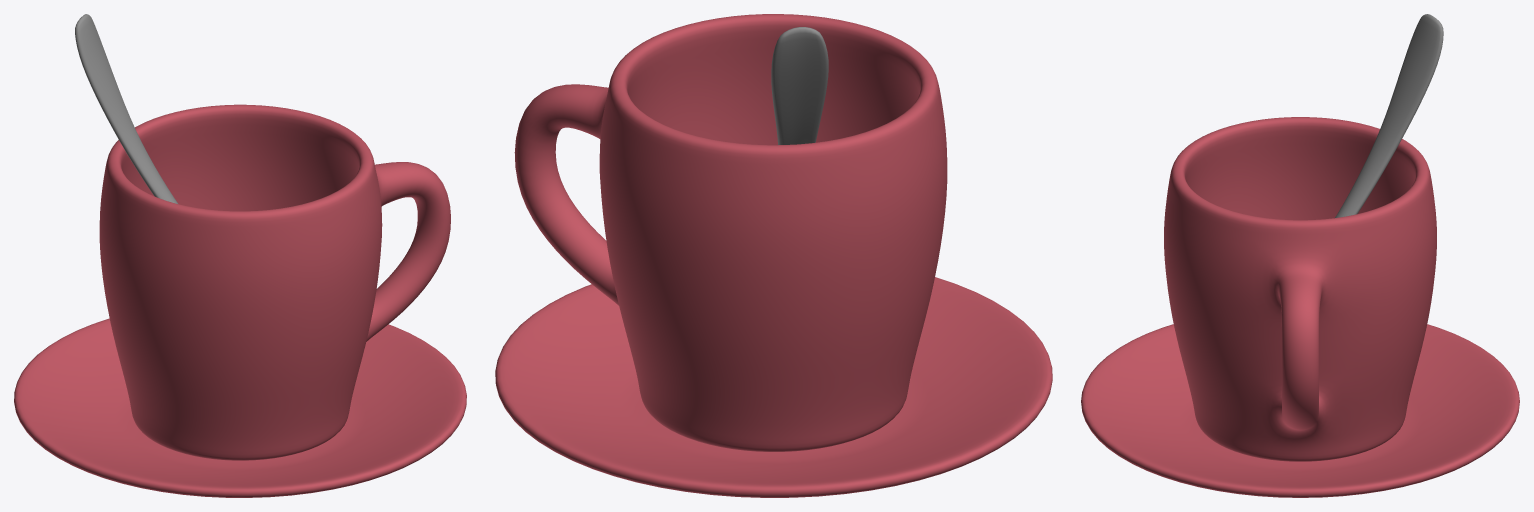
The model's file is coffee-cup.glb.
3 views of the same model, side by side, from view 1: azimuth 30°, elevation 25°; view 2: azimuth 150°, elevation 25°; view 3: azimuth 270°, elevation 25° (orthographic). The views are drawn at different scales.
Visible parts, largest first — view 1: Coffee Cup_1, Coffee Plate_0, Coffee Spoon_2; view 2: Coffee Cup_1, Coffee Plate_0, Coffee Spoon_2; view 3: Coffee Cup_1, Coffee Plate_0, Coffee Spoon_2.
Part boxes in pixels (x1,y1,x2,y2): Coffee Cup_1: [99, 104, 450, 460]; Coffee Plate_0: [14, 318, 466, 497]; Coffee Spoon_2: [75, 14, 178, 204]; Coffee Cup_1: [514, 14, 947, 451]; Coffee Plate_0: [495, 277, 1052, 497]; Coffee Spoon_2: [771, 27, 828, 144]; Coffee Cup_1: [1164, 117, 1436, 461]; Coffee Plate_0: [1081, 324, 1519, 497]; Coffee Spoon_2: [1335, 14, 1443, 217].
Bounding box in the file's own units: 0.1486 × 0.1356 × 0.1444.
